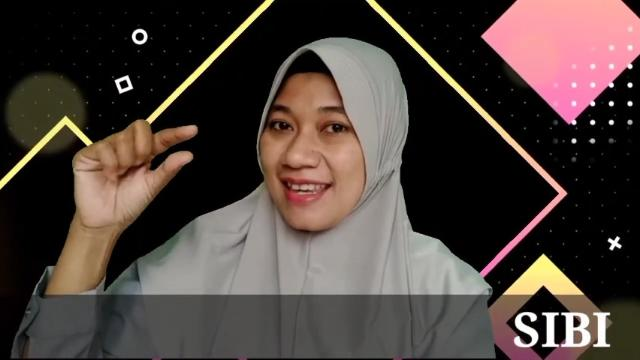G: (71, 116, 197, 224)
